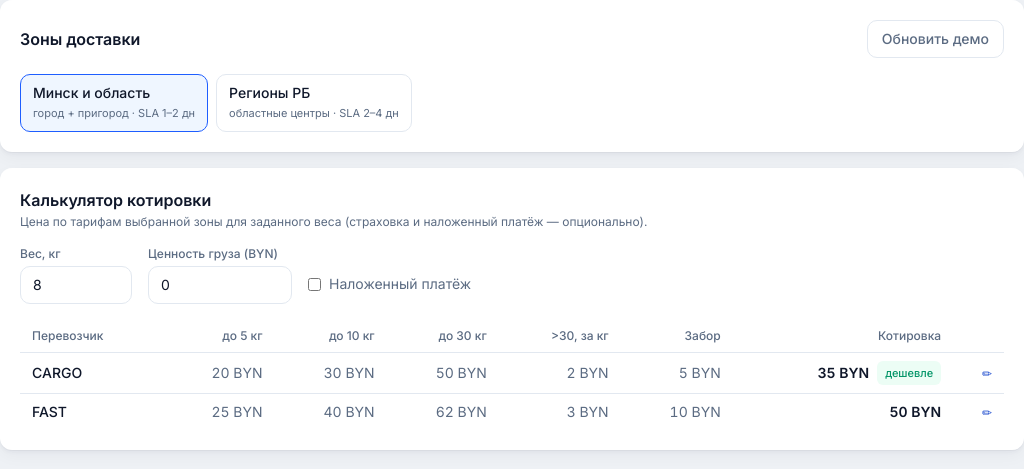
Test: LogisticsTariffs › наложенный платёж наценивает котировку на cod_pct
Expected: the text "CARGO" is shown, [20,352,162,394]
// COD 10% от фрахта: CARGO 35 → 38.5
Click the checkbox at (314, 284), box [308,278,321,290]
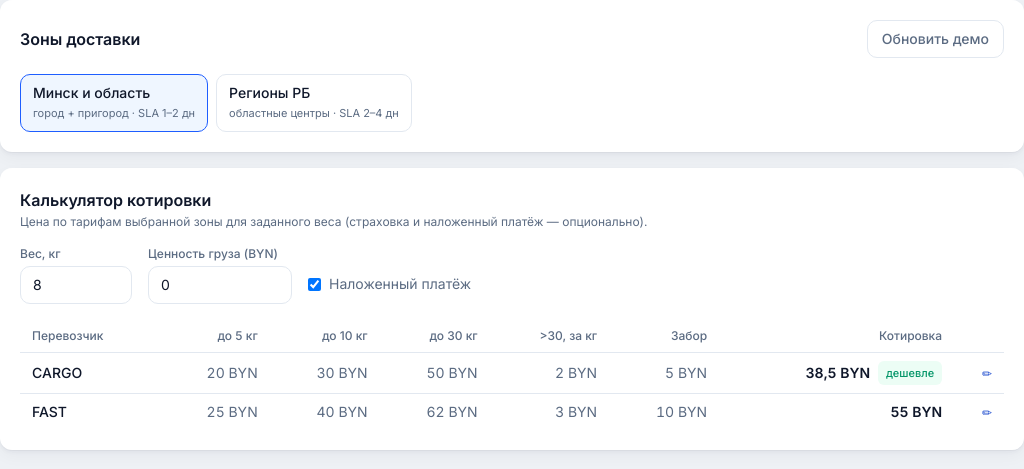
Now the text "38,5 BYN" is shown, box [806,363,870,383]
